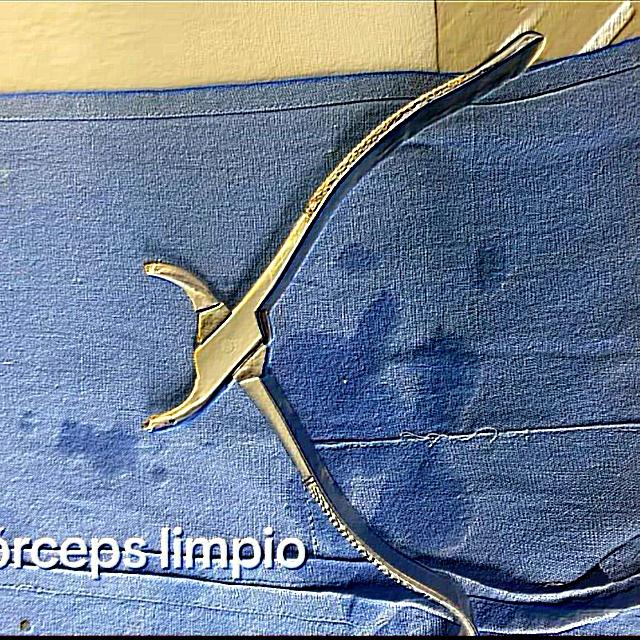forceps: (140, 30, 544, 637)
